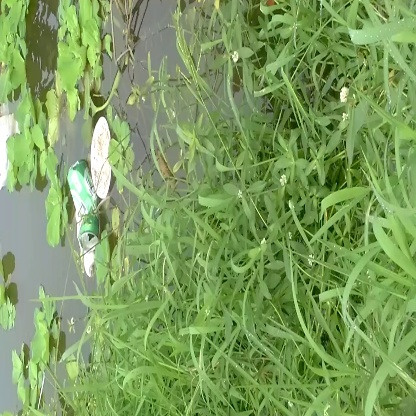bottle: (61, 159, 108, 248)
